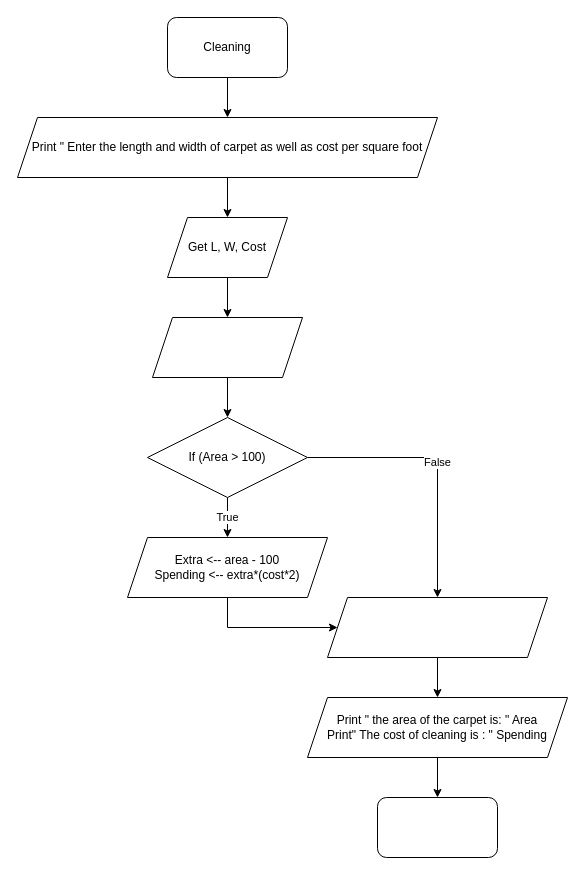
Some shapes in this 585 by 875 pixel diagram are drawn without their labels. The shapes that lost their labels are listed below. From the top down, each one's centre as x and y in pixels, then its label:
[227,347]: Spending <-- 0 Area <-- L*W
[437,627]: Spending<--Spending + (Area *Cost)
[437,827]: END
